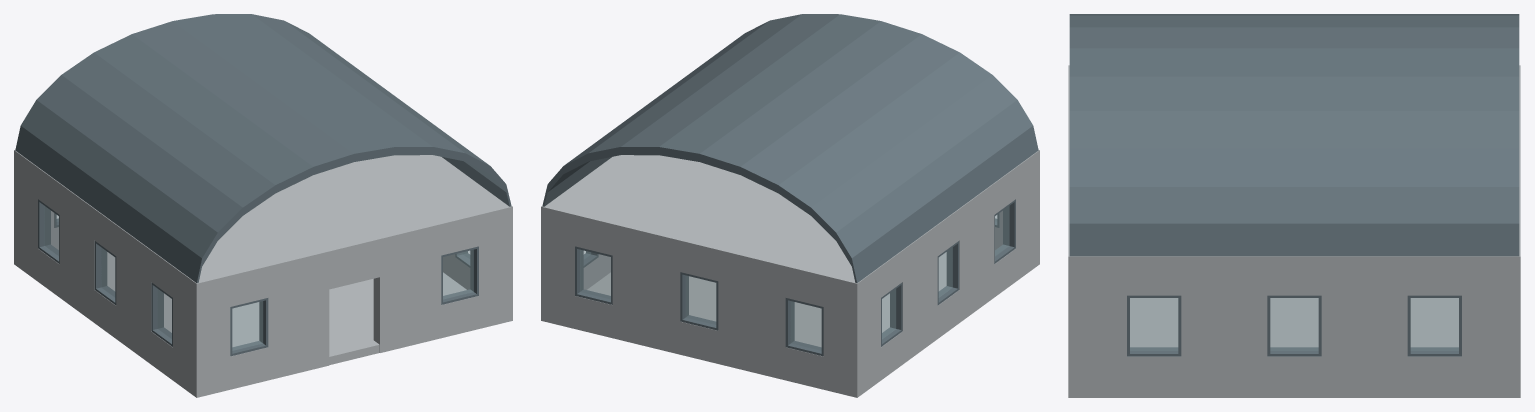
The model's file is hangar_1_lod1.glb.
3 renders of one model, left to right at view 1: azimuth 30°, elevation 25°; view 2: azimuth 150°, elevation 25°; view 3: azimuth 270°, elevation 25°, orthographic. The views are drawn at different scales.
Parts seen in each view (by area): view 1: Roof shell baked, Wall_0 baked, Ceiling baked, Wall_3 baked, Floor baked, Glazing baked, Glazing.001 baked, Wall_1 baked, Wall_2 baked, Glazing.008 baked, Window jamb.018 baked, Glazing.009 baked (+4 smaller); view 2: Roof shell baked, Wall_1 baked, Ceiling baked, Wall_3 baked, Floor baked, Glazing.004 baked, Glazing.002 baked, Glazing.003 baked, Wall_0 baked, Wall_2 baked, Glazing.010 baked, Window jamb.019 baked (+5 smaller); view 3: Roof shell baked, Wall_2 baked, Floor baked, Ceiling baked, Glazing.006 baked, Glazing.005 baked, Glazing.007 baked, Wall_0 baked, Wall_1 baked, Window sill.012 baked, Window sill.010 baked, Window sill.014 baked.
Boxes of the visible parts, x1=… form: Roof shell baked: x1=15, y1=14, x2=511, y2=282; Wall_0 baked: x1=190, y1=215, x2=512, y2=397; Ceiling baked: x1=14, y1=150, x2=512, y2=291; Wall_3 baked: x1=20, y1=163, x2=190, y2=392; Floor baked: x1=107, y1=252, x2=466, y2=364; Glazing baked: x1=232, y1=301, x2=262, y2=350; Glazing.001 baked: x1=443, y1=250, x2=473, y2=299; Wall_1 baked: x1=14, y1=158, x2=58, y2=268; Wall_2 baked: x1=443, y1=254, x2=470, y2=289; Glazing.008 baked: x1=44, y1=206, x2=58, y2=255; Window jamb.018 baked: x1=94, y1=241, x2=107, y2=290; Glazing.009 baked: x1=101, y1=248, x2=114, y2=296; Roof shell baked: x1=542, y1=14, x2=1038, y2=282; Wall_1 baked: x1=541, y1=215, x2=863, y2=397; Ceiling baked: x1=541, y1=150, x2=1039, y2=291; Wall_3 baked: x1=863, y1=163, x2=1033, y2=392; Floor baked: x1=587, y1=252, x2=946, y2=346; Glazing.004 baked: x1=791, y1=301, x2=821, y2=350; Glazing.002 baked: x1=580, y1=250, x2=610, y2=298; Glazing.003 baked: x1=685, y1=276, x2=715, y2=324; Wall_0 baked: x1=995, y1=158, x2=1039, y2=268; Wall_2 baked: x1=583, y1=254, x2=610, y2=289; Glazing.010 baked: x1=995, y1=206, x2=1009, y2=255; Window jamb.019 baked: x1=946, y1=241, x2=959, y2=290; Roof shell baked: x1=1069, y1=14, x2=1519, y2=256; Wall_2 baked: x1=1084, y1=266, x2=1504, y2=397; Floor baked: x1=1130, y1=298, x2=1458, y2=347; Ceiling baked: x1=1068, y1=65, x2=1520, y2=266; Glazing.006 baked: x1=1270, y1=298, x2=1318, y2=350; Glazing.005 baked: x1=1130, y1=298, x2=1177, y2=350; Glazing.007 baked: x1=1411, y1=298, x2=1458, y2=350; Wall_0 baked: x1=1068, y1=266, x2=1084, y2=397; Wall_1 baked: x1=1504, y1=266, x2=1520, y2=397; Window sill.012 baked: x1=1270, y1=347, x2=1318, y2=356; Window sill.010 baked: x1=1130, y1=347, x2=1178, y2=356; Window sill.014 baked: x1=1410, y1=347, x2=1458, y2=356.
Bounding box in the file's own units: 10 × 6.2 × 10.
